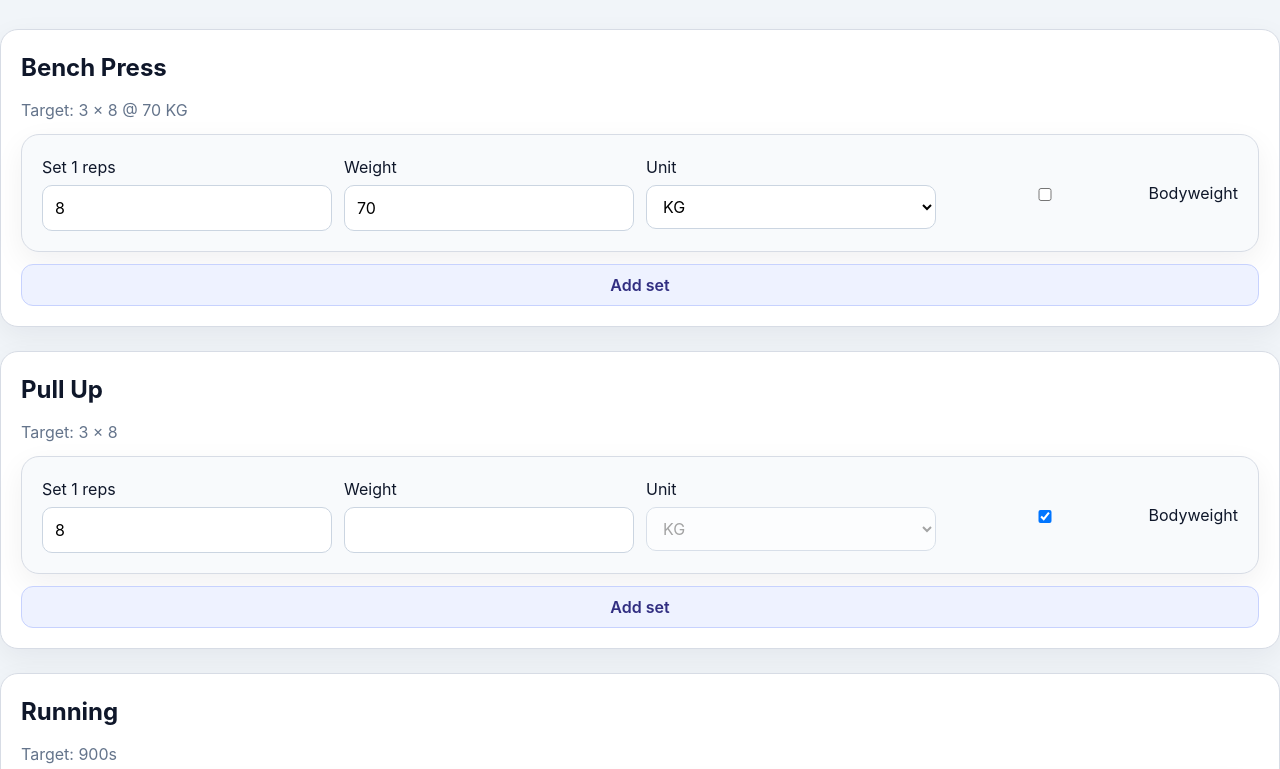
Test case: ProgramSessionForm › allows adding extra sets and laps while keeping at least one entry
Click the button "Add set" below "3 × 8 @ 70 KG": coordinates (640, 285) [21,264,1259,306]
(page scrolled)
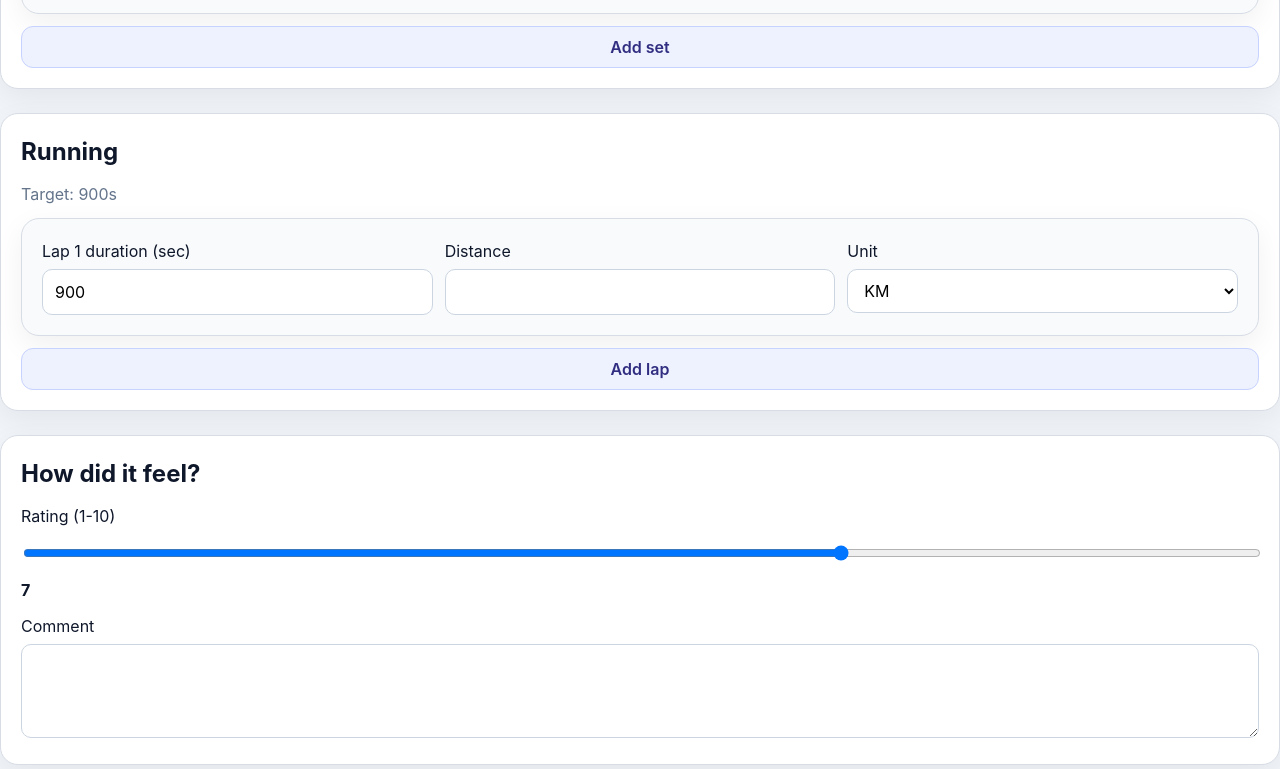
Click the button "Add lap": coordinates (640, 369) [21,348,1259,390]
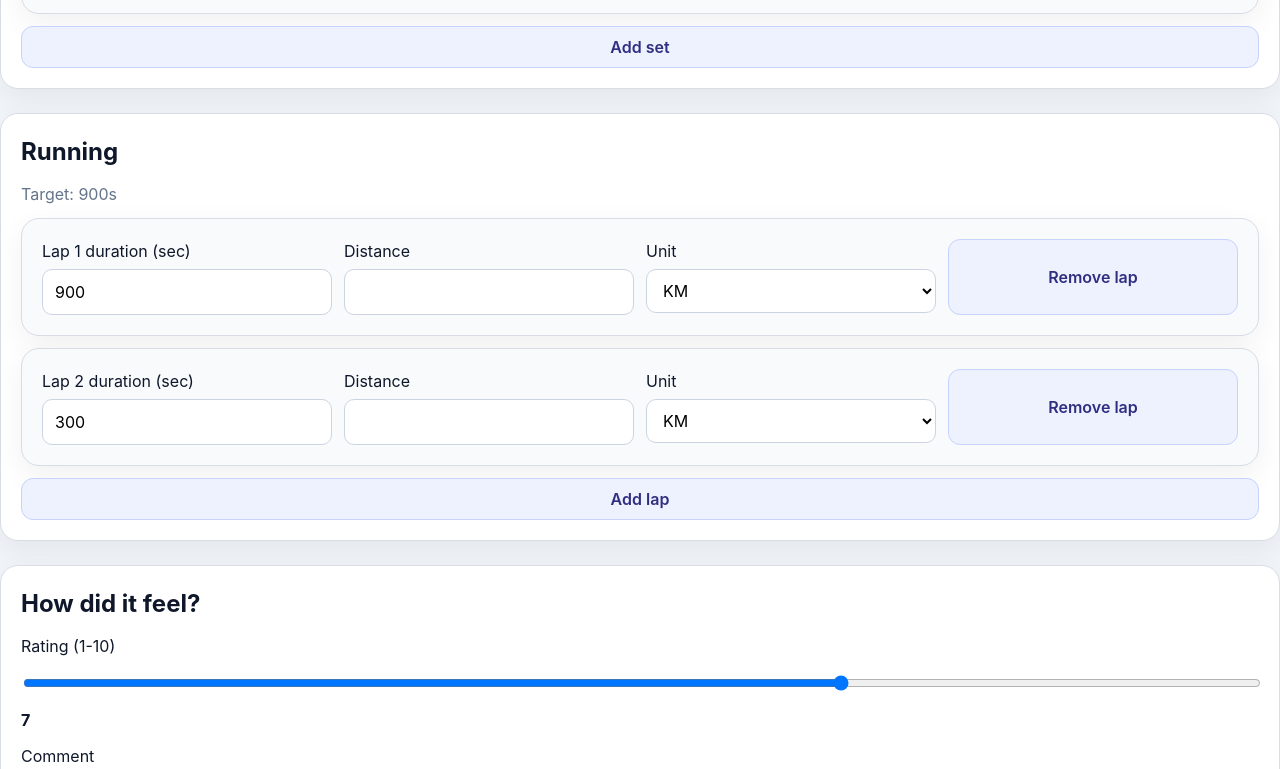
Now the 1st button "Remove lap" is shown, box [948,239,1238,315]
